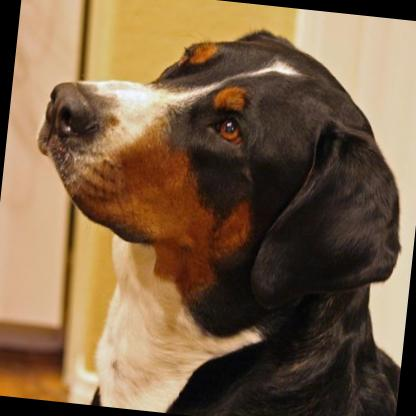Greater_Swiss_Mountain_dog: (5, 3, 416, 416)
